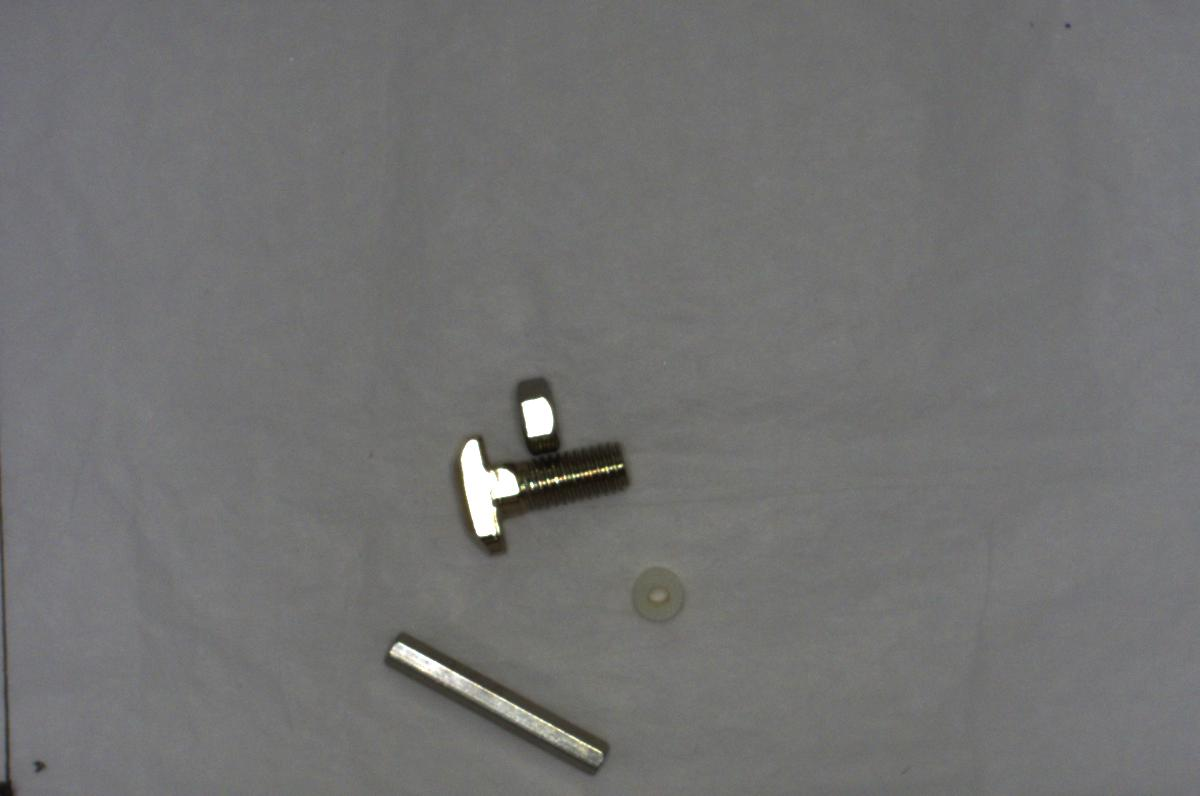Double hexagonal column: (381, 623, 617, 774)
Hexagon nut: (502, 369, 564, 455)
Plastic cushion pillar: (604, 559, 702, 641)
T-shaped screw: (453, 426, 654, 558)
